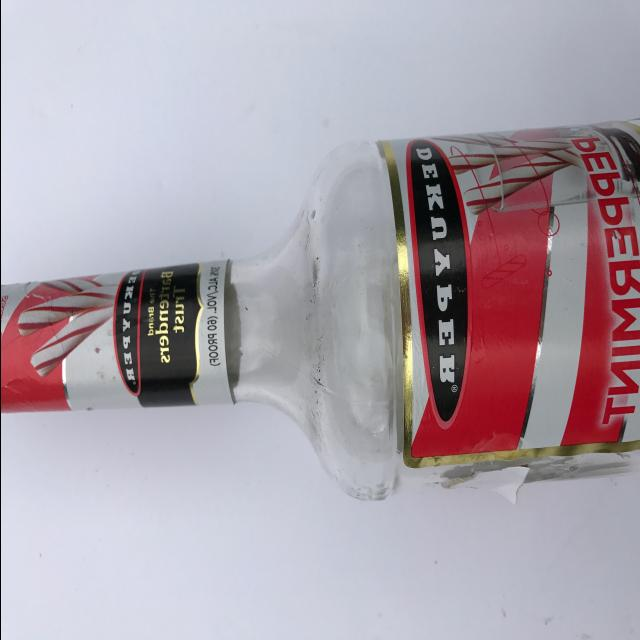glass: (0, 122, 640, 502)
